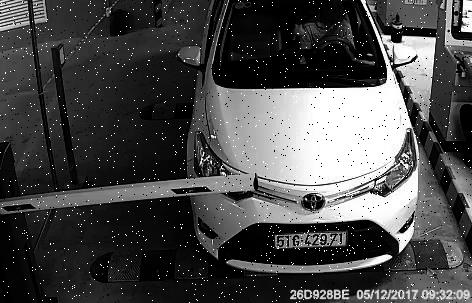License-plate: (268, 227, 357, 258)
